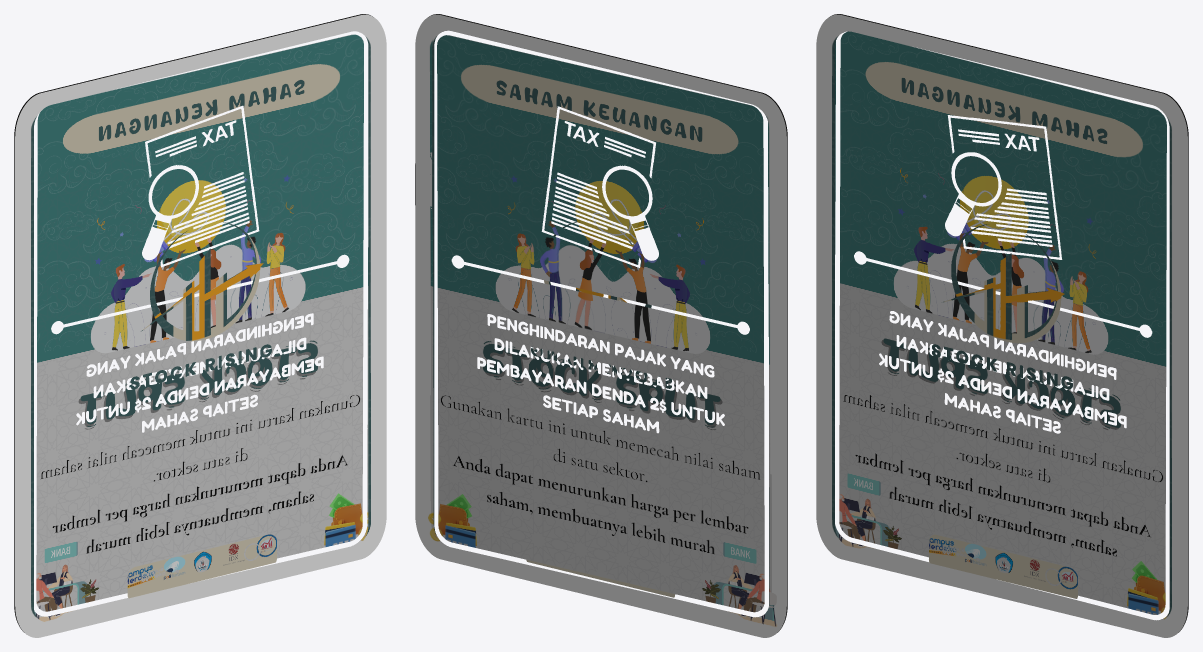
The model's file is Stock Split Saham Keuangan.fbx.
3 renders of one model, left to right at view 1: azimuth 30°, elevation 25°; view 2: azimuth 150°, elevation 25°; view 3: azimuth 330°, elevation 25°, orthographic.
Parts seen in each view (by area): view 1: Cube; view 2: Cube; view 3: Cube.
Part boxes in pixels (x1,y1,x2,y2): Cube: (14, 14, 386, 637); Cube: (415, 14, 787, 637); Cube: (816, 14, 1188, 637).
Size of the model in its own units: 500 by 700 by 2.
